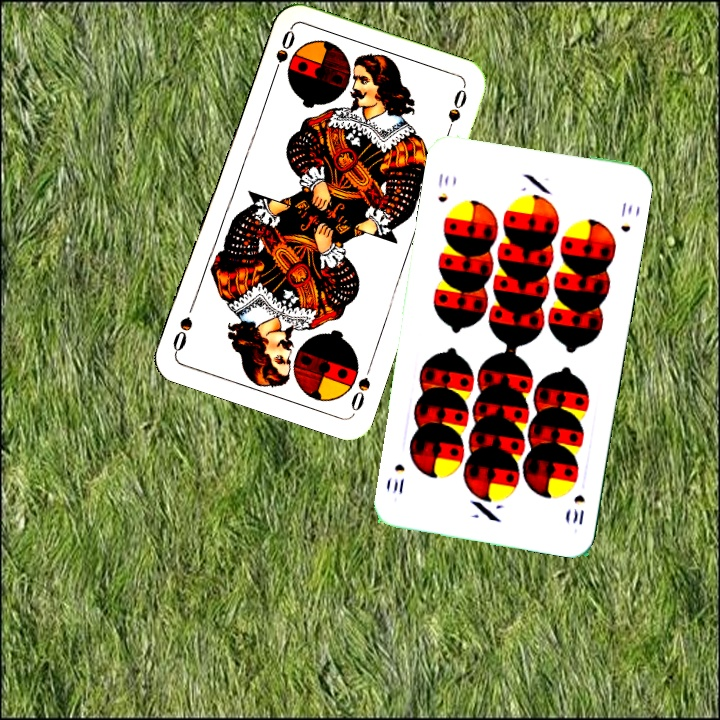S10: (568, 491, 588, 528), (433, 169, 451, 205)
SO: (268, 25, 298, 82), (346, 359, 375, 416)
